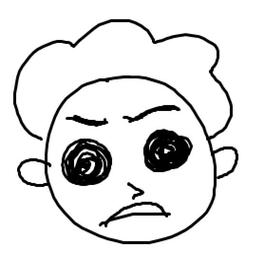ear: (213, 143, 241, 185), (15, 157, 50, 190)
eye: (59, 136, 115, 189), (139, 127, 193, 177)
eyebrow: (120, 103, 184, 126), (66, 112, 110, 130)
open_mouth: (98, 199, 175, 231)
pointy_nose: (125, 181, 145, 200)
